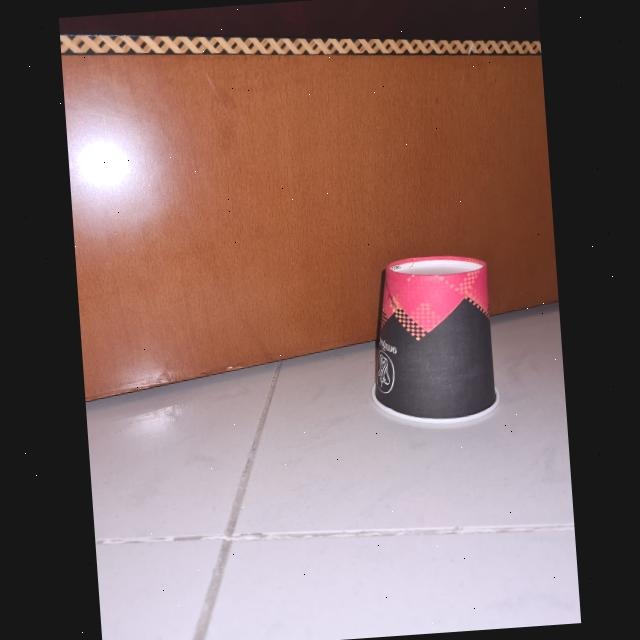trash: (364, 250, 499, 427)
